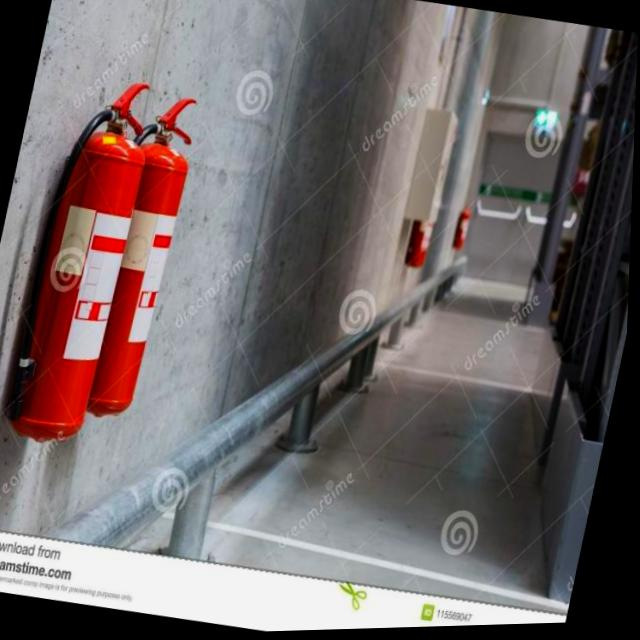FireExtinguisher: (0, 64, 165, 461), (61, 84, 207, 430), (399, 181, 445, 278), (448, 199, 477, 256)
